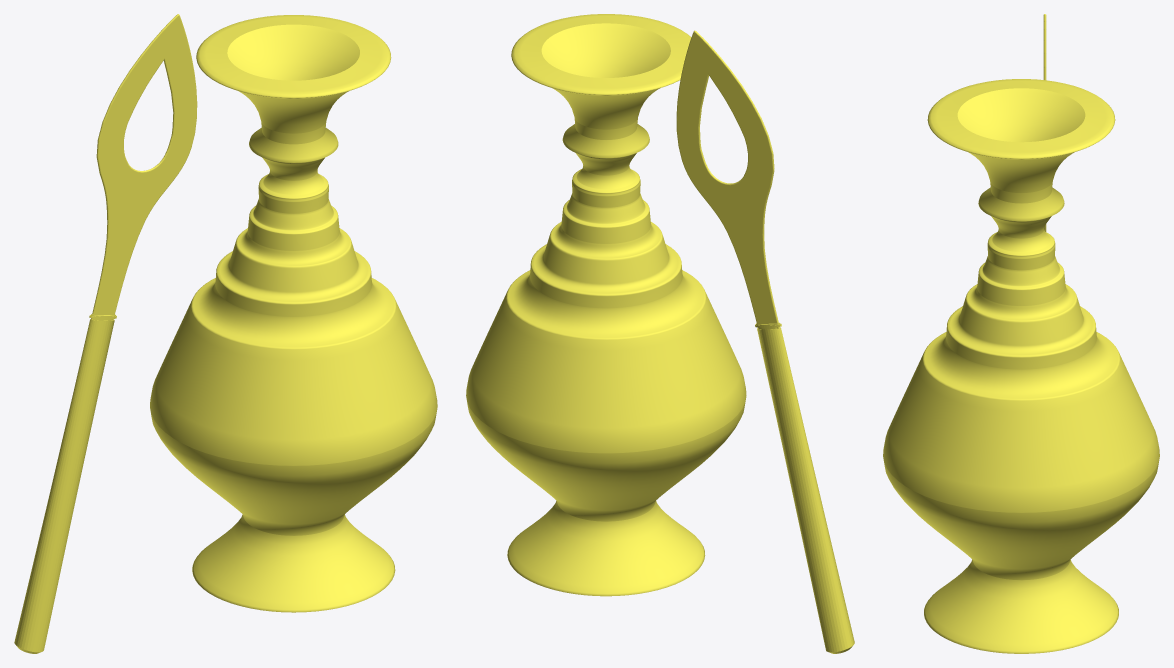
The model's file is Objet.glb.
The picture shows the model from 3 angles, left to right: view 1: azimuth 30°, elevation 25°; view 2: azimuth 150°, elevation 25°; view 3: azimuth 270°, elevation 25°; orthographic projection. The views are drawn at different scales.
Parts seen in each view (by area): view 1: Cube.004; view 2: Cube.004; view 3: Cube.004.
Boxes of the visible parts, x1,y1,x2,y2 form: Cube.004: [14, 14, 437, 653]; Cube.004: [466, 14, 854, 653]; Cube.004: [883, 14, 1159, 653].
Size of the model in its own units: 2.78 by 4.1 by 1.78.
